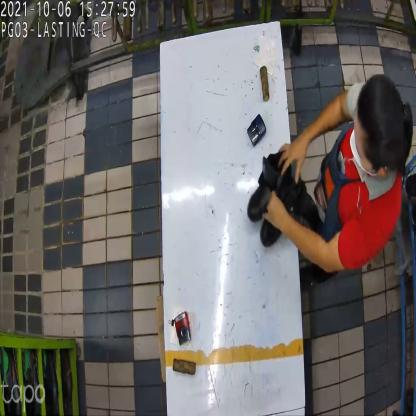shoes: (246, 150, 306, 247)
stamp: (173, 312, 195, 344), (248, 112, 266, 147)
